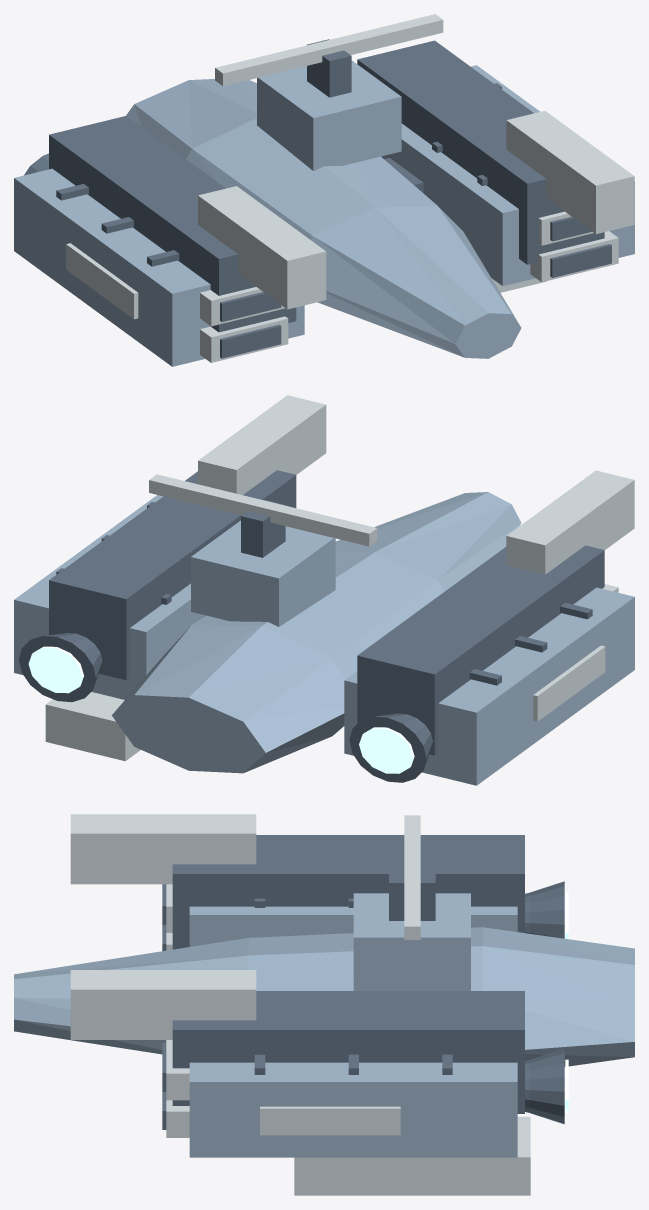
The picture shows the model from 3 angles, top to bottom: view 1: azimuth 30°, elevation 25°; view 2: azimuth 150°, elevation 25°; view 3: azimuth 270°, elevation 25°; orthographic projection. The views are drawn at different scales.
Size of the model in its own units: 12.17 by 5.8 by 13.4.
